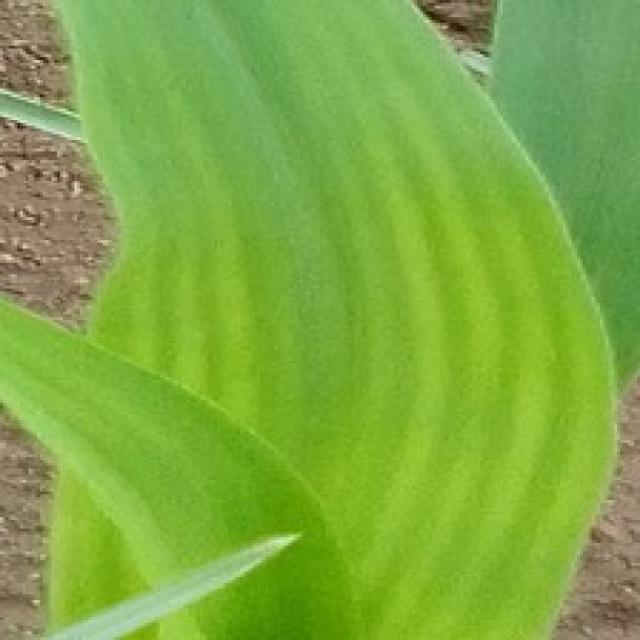Corn: (0, 0, 634, 637), (482, 0, 637, 394)
